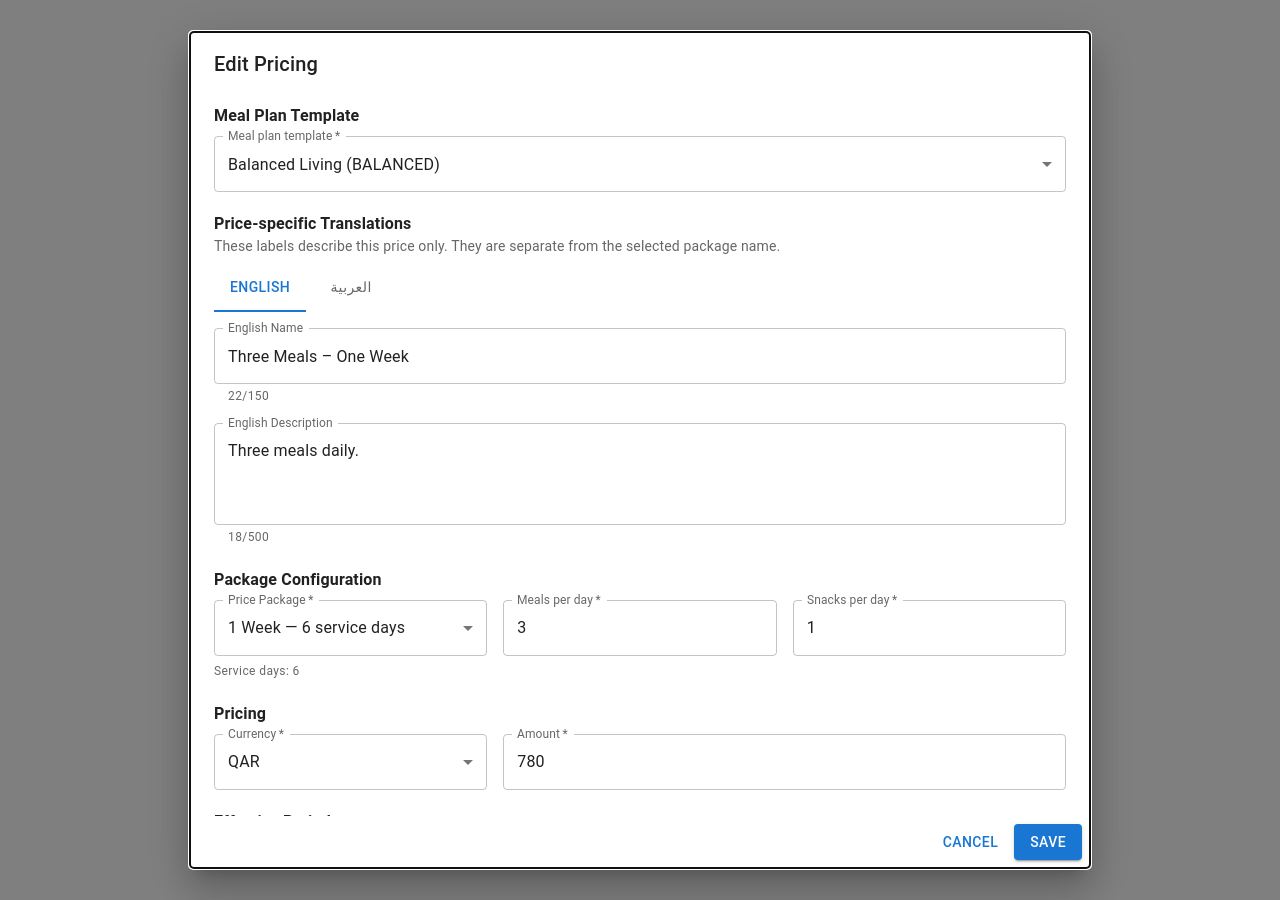
Test case: pricing package integration › maps API translation validation errors to the correct visible inputs
Click the tab "العربية": (351, 288) [306,264,396,312]
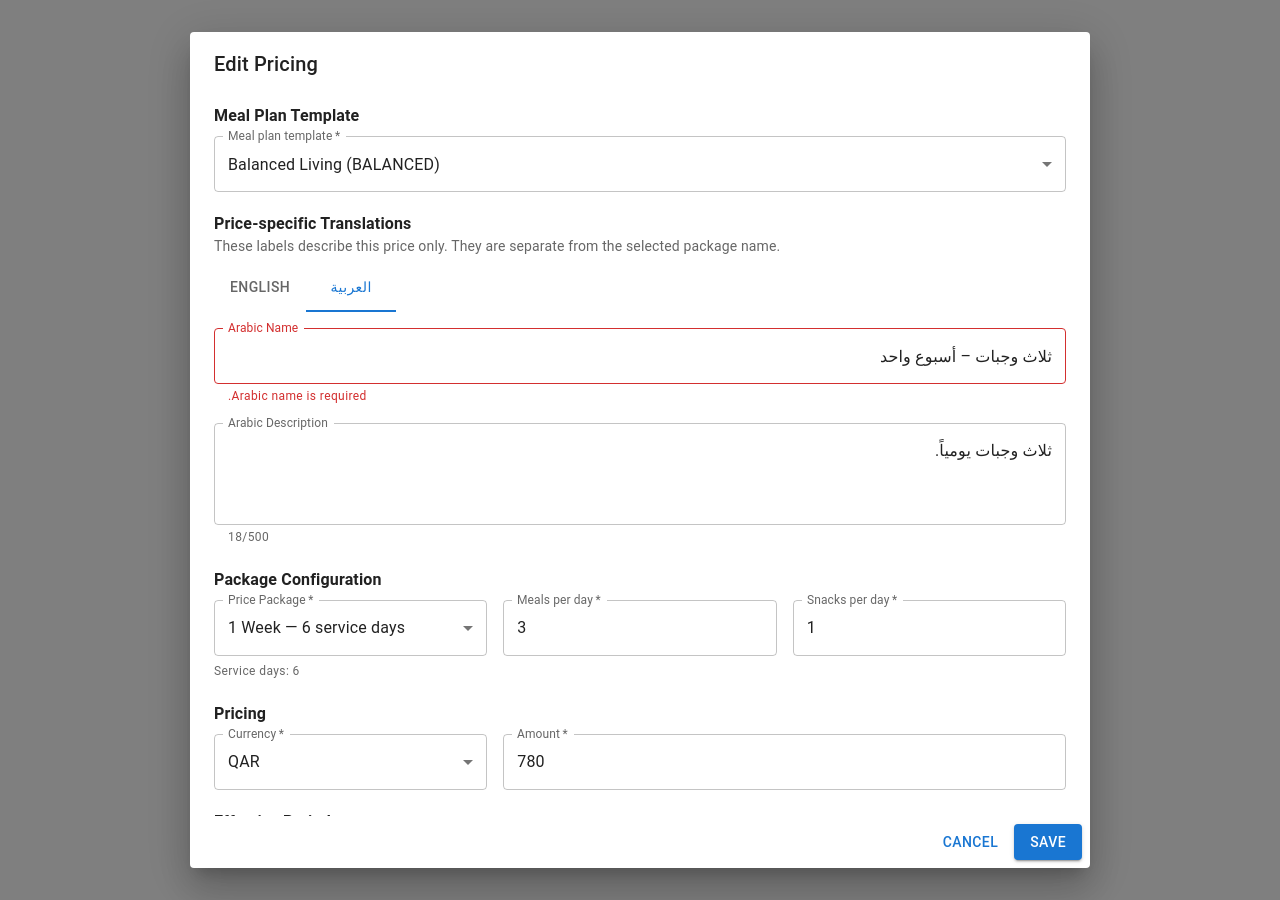
Now the text "Arabic name is required." is shown, box [228,389,367,403]
